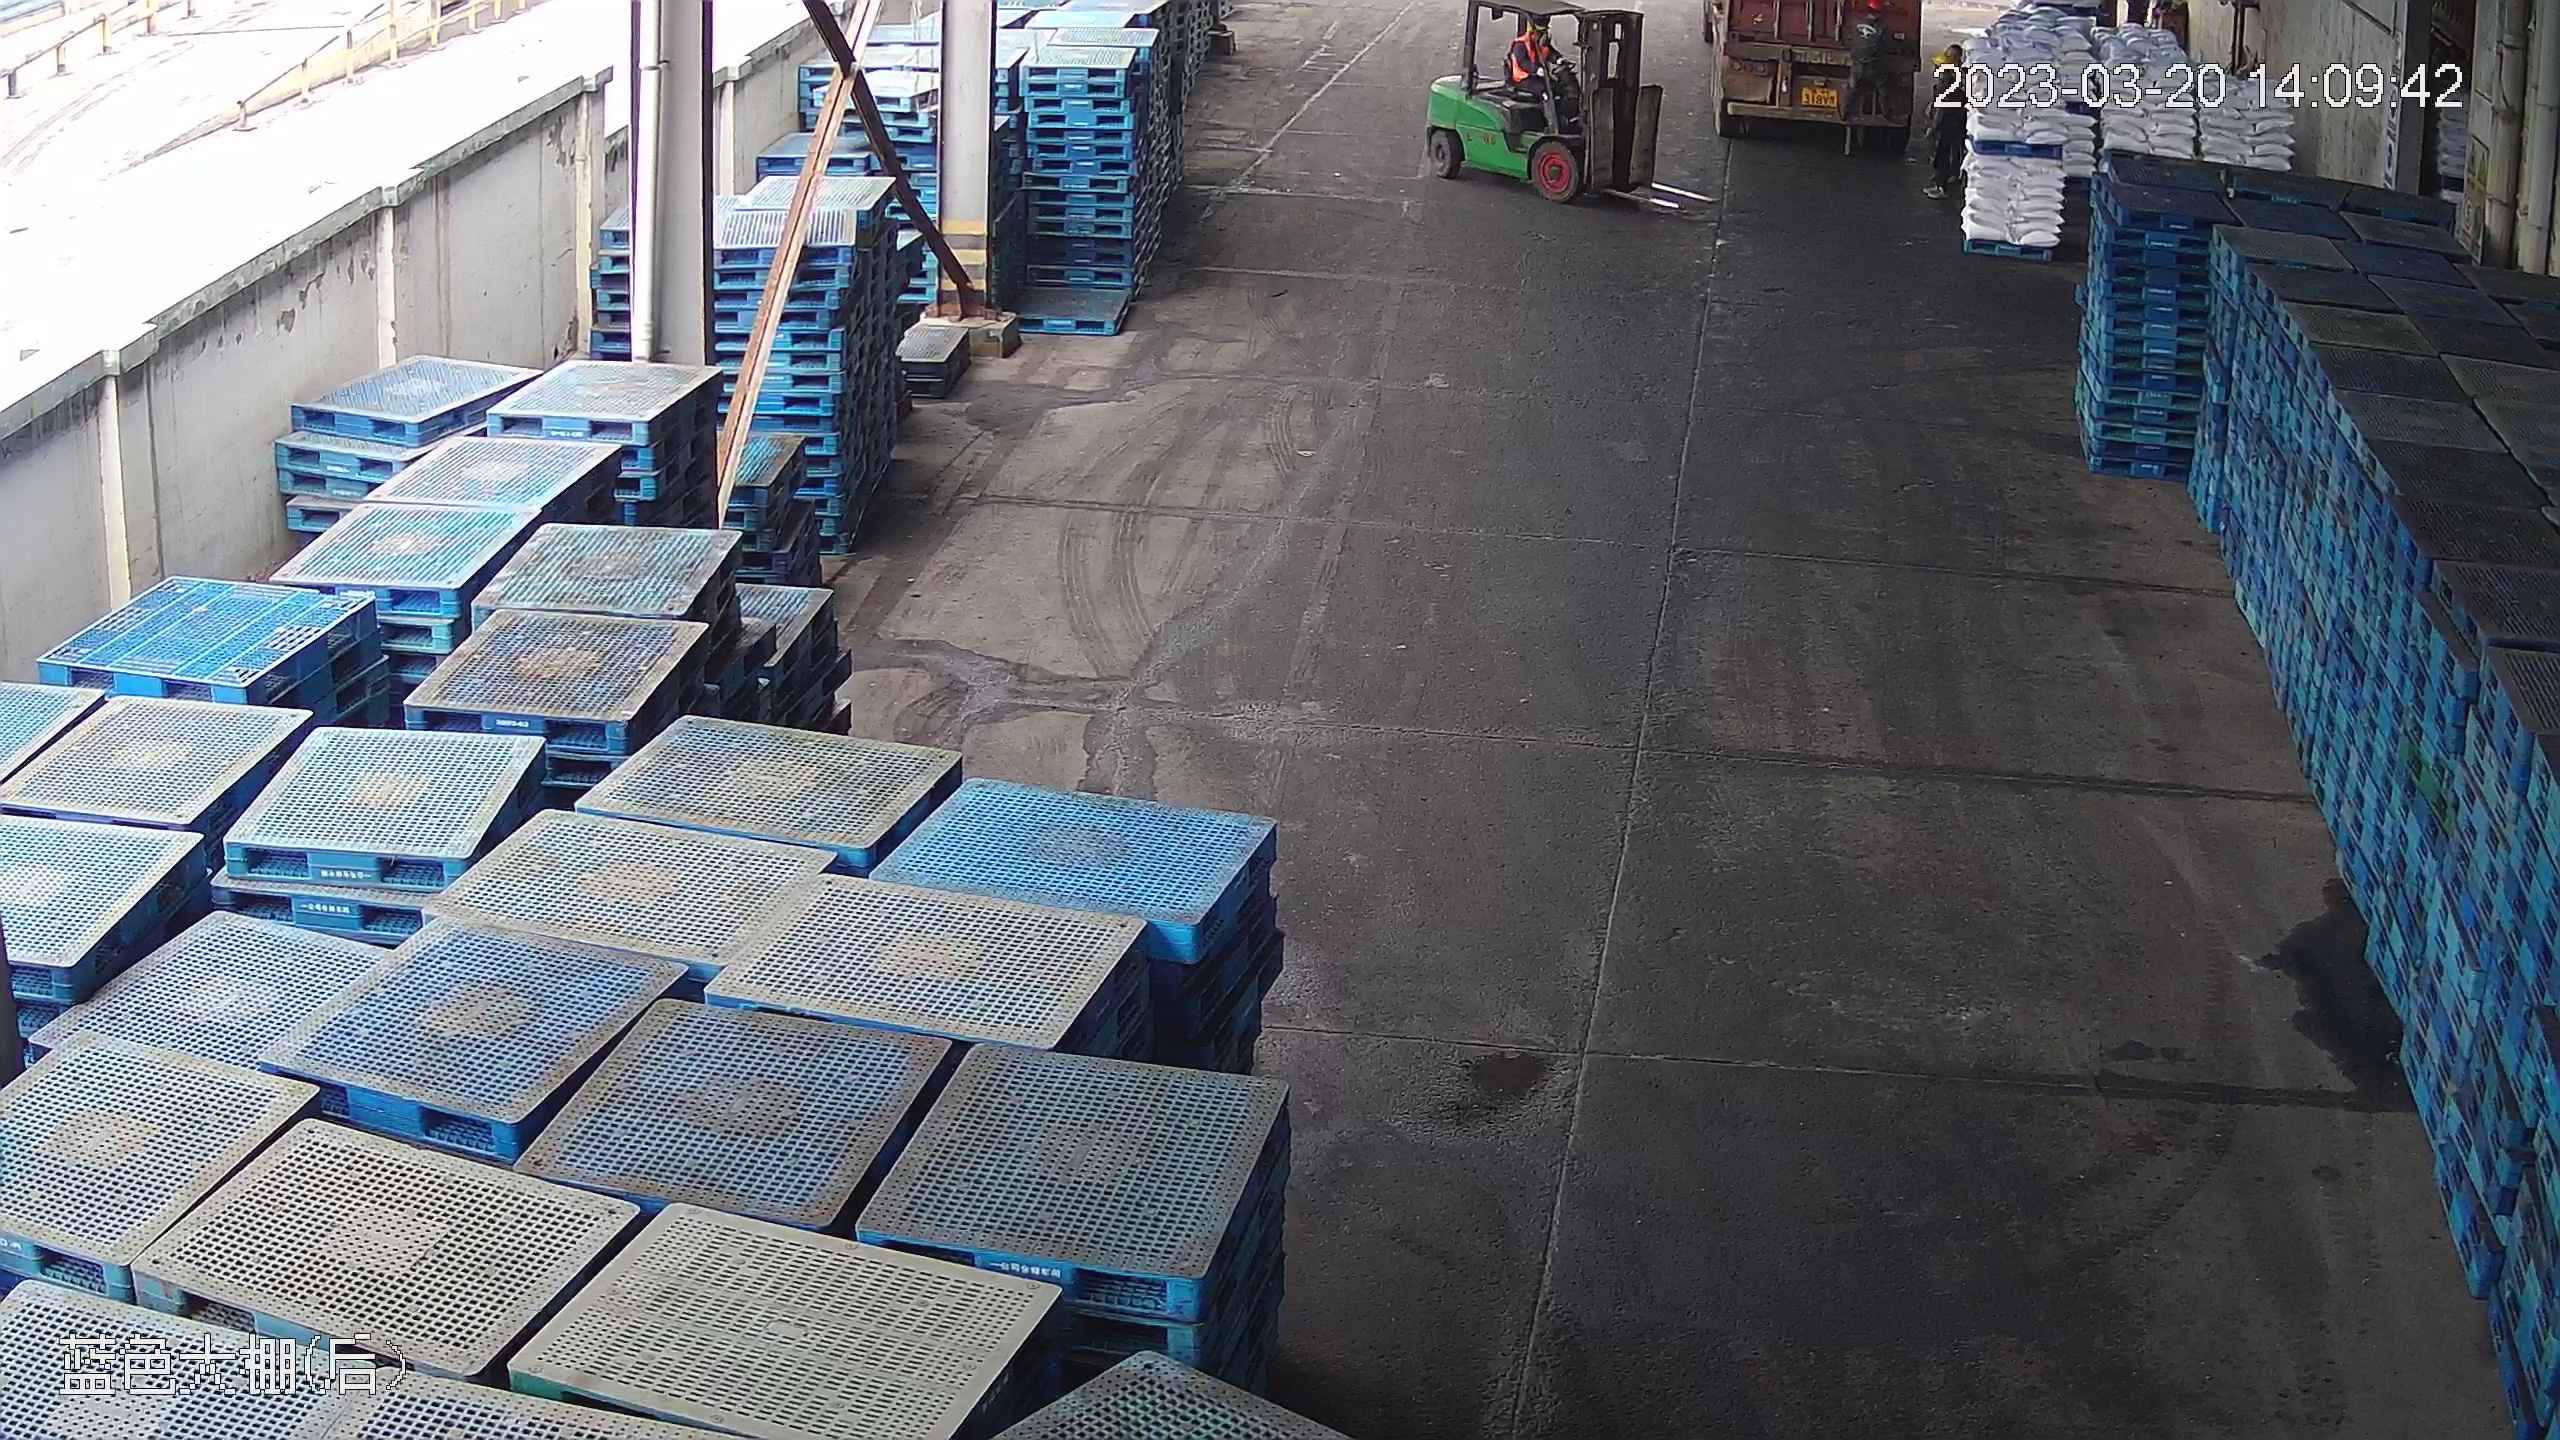head: (1927, 45, 1973, 91)
helmet: (1934, 47, 1961, 67)
people: (1917, 41, 1972, 202)
truck: (1702, 0, 1894, 143)
